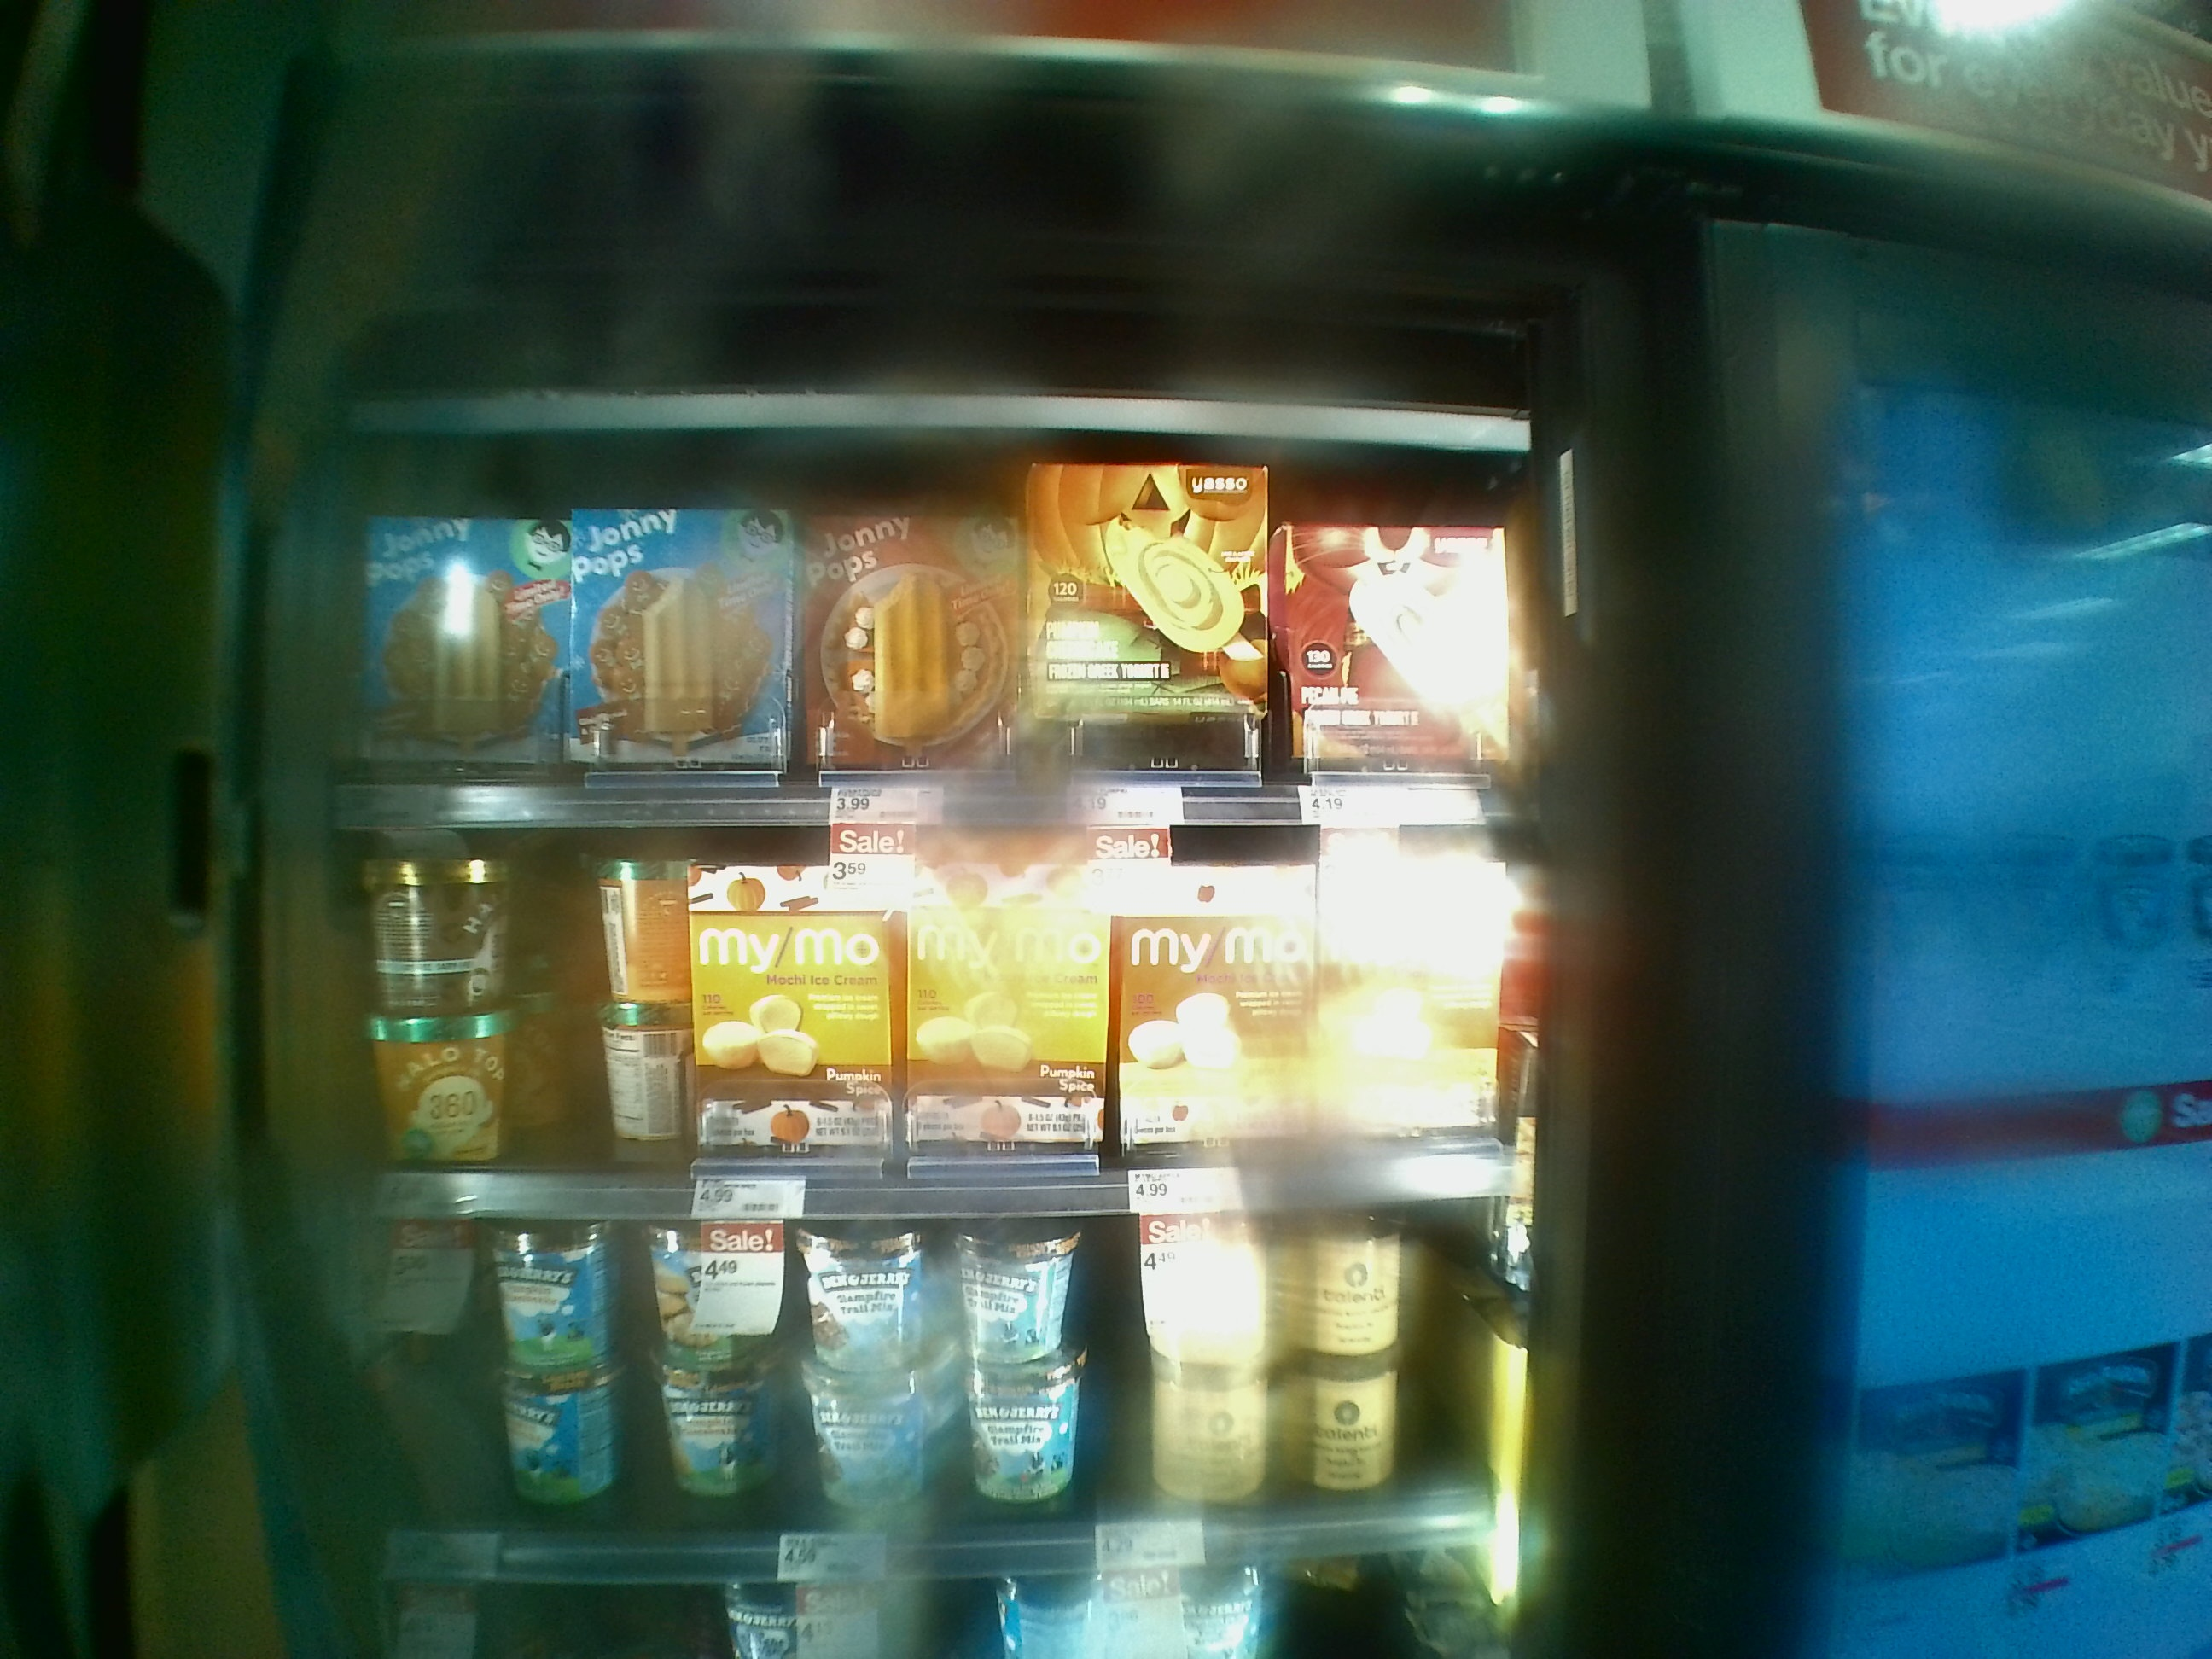shelf: (307, 803, 1571, 1223), (338, 422, 1564, 826), (296, 1185, 1507, 1561)
